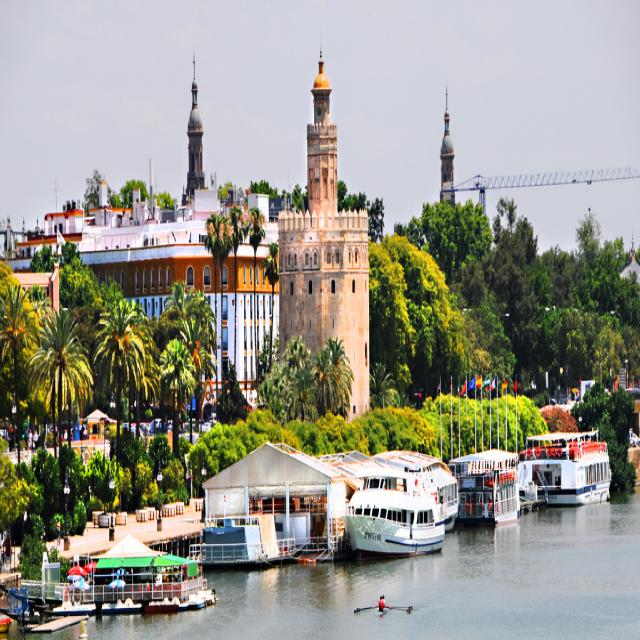Boat: (340, 458, 447, 572), (516, 409, 612, 506)
